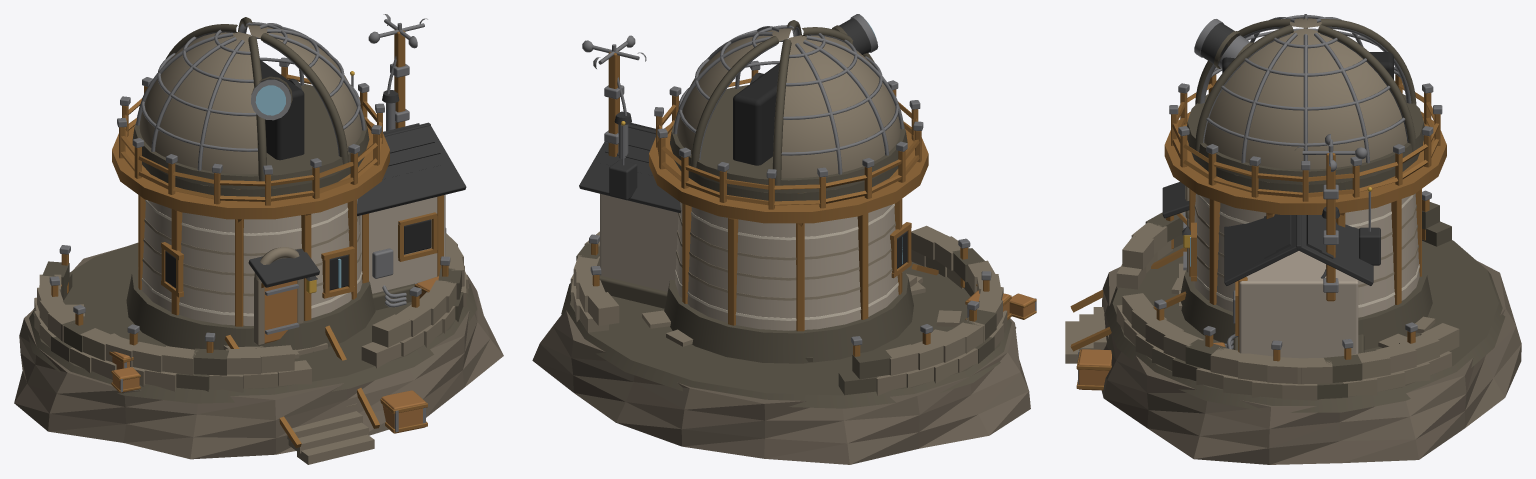
Rendered from observatory.glb.
3 renders of one model, left to right at view 1: azimuth 30°, elevation 25°; view 2: azimuth 150°, elevation 25°; view 3: azimuth 270°, elevation 25°, orthographic.
Visible parts, largest first — view 1: observatory-farm-stone, observatory-farm-stone-dark, observatory-farm-rock, observatory-farm-wood-dark, observatory-farm-plaster, observatory-farm-metal, observatory-farm-roof-slate, observatory-farm-window, observatory-farm-wood, observatory-farm-trim, observatory-farm-accent-blue; view 2: observatory-farm-stone-dark, observatory-farm-rock, observatory-farm-stone, observatory-farm-plaster, observatory-farm-wood-dark, observatory-farm-metal, observatory-farm-roof-slate, observatory-farm-window, observatory-farm-trim, observatory-farm-wood; view 3: observatory-farm-stone, observatory-farm-stone-dark, observatory-farm-rock, observatory-farm-wood-dark, observatory-farm-plaster, observatory-farm-metal, observatory-farm-roof-slate, observatory-farm-wood, observatory-farm-trim.
Boxes of the visible parts, left/top/right/bottom form: observatory-farm-stone: left=34, top=25, right=468, bottom=464; observatory-farm-stone-dark: left=28, top=17, right=477, bottom=403; observatory-farm-rock: left=14, top=247, right=503, bottom=459; observatory-farm-wood-dark: left=51, top=29, right=448, bottom=448; observatory-farm-plaster: left=141, top=194, right=445, bottom=325; observatory-farm-metal: left=49, top=14, right=450, bottom=432; observatory-farm-roof-slate: left=248, top=78, right=466, bottom=287; observatory-farm-window: left=165, top=59, right=431, bottom=290; observatory-farm-wood: left=112, top=276, right=438, bottom=433; observatory-farm-trim: left=138, top=199, right=362, bottom=316; observatory-farm-accent-blue: left=255, top=85, right=341, bottom=288; observatory-farm-stone-dark: left=561, top=20, right=1016, bottom=408; observatory-farm-rock: left=532, top=310, right=1030, bottom=464; observatory-farm-stone: left=570, top=27, right=1007, bottom=395; observatory-farm-plaster: left=600, top=193, right=898, bottom=330; observatory-farm-wood-dark: left=591, top=51, right=1036, bottom=356; observatory-farm-metal: left=582, top=14, right=1036, bottom=345; observatory-farm-roof-slate: left=579, top=18, right=871, bottom=213; observatory-farm-window: left=733, top=63, right=907, bottom=268; observatory-farm-trim: left=675, top=203, right=898, bottom=320; observatory-farm-wood: left=967, top=290, right=1034, bottom=317; observatory-farm-stone: left=1065, top=18, right=1459, bottom=400; observatory-farm-stone-dark: left=1105, top=19, right=1505, bottom=412; observatory-farm-rock: left=1102, top=260, right=1521, bottom=464; observatory-farm-wood-dark: left=1070, top=74, right=1446, bottom=389; observatory-farm-plaster: left=1193, top=193, right=1419, bottom=358; observatory-farm-metal: left=1078, top=14, right=1442, bottom=384; observatory-farm-roof-slate: left=1162, top=23, right=1380, bottom=285; observatory-farm-wood: left=1078, top=342, right=1224, bottom=390; observatory-farm-trim: left=1197, top=195, right=1419, bottom=307.
Size of the model in its own units: 11.07 by 8.18 by 9.96.
